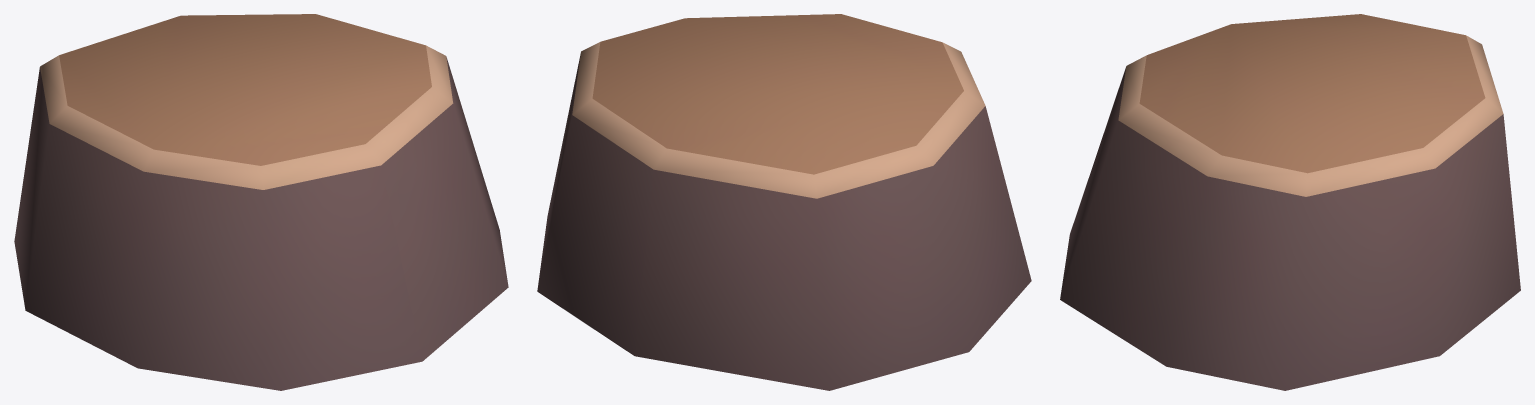
The model's file is Env_Nature_Trunk_2.fbx.
3 views of the same model, side by side, from view 1: azimuth 30°, elevation 25°; view 2: azimuth 150°, elevation 25°; view 3: azimuth 270°, elevation 25° (orthographic). The views are drawn at different scales.
Parts seen in each view (by area): view 1: Trunk_2_01; view 2: Trunk_2_01; view 3: Trunk_2_01.
Part boxes in pixels (bbox=[...]): Trunk_2_01: bbox=[14, 14, 508, 390]; Trunk_2_01: bbox=[537, 14, 1031, 390]; Trunk_2_01: bbox=[1060, 14, 1520, 390].
Bounding box in the file's own units: 63.32 × 26.59 × 58.53.
